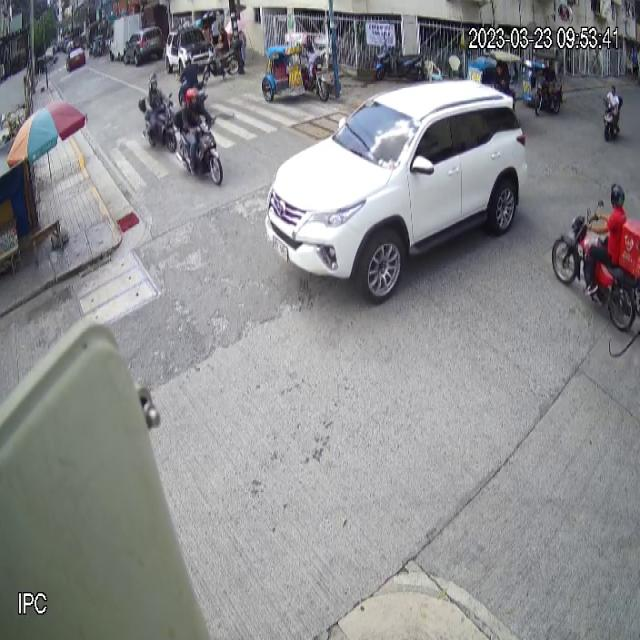Car: (263, 77, 529, 301)
Motorcycle: (551, 201, 640, 331), (174, 108, 224, 186)
Tricycle: (262, 31, 330, 103)
